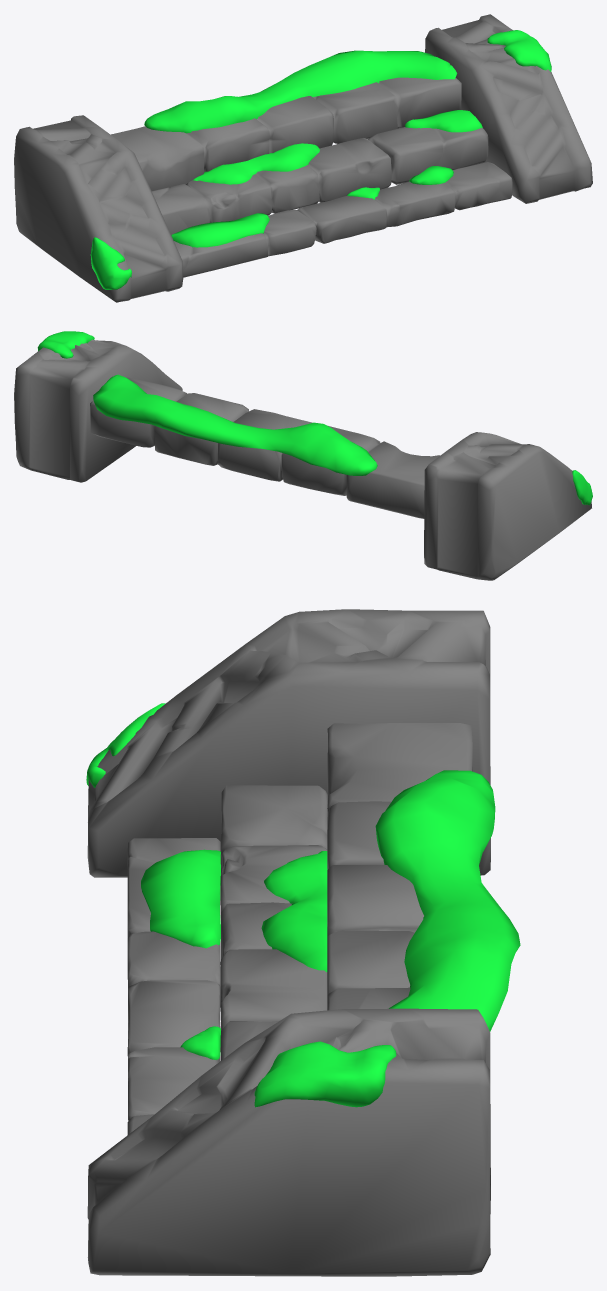
File: Stairs.fbx
3 views of the same model, one above another, from view 1: azimuth 30°, elevation 25°; view 2: azimuth 150°, elevation 25°; view 3: azimuth 270°, elevation 25° (orthographic). The views are drawn at different scales.
Parts seen in each view (by area): view 1: Stairs, moss; view 2: Stairs, moss; view 3: Stairs, moss.
Boxes of the visible parts, <box> form: Stairs: <box>14,14,592,302</box>; moss: <box>90,30,551,289</box>; Stairs: <box>14,339,591,580</box>; moss: <box>37,331,592,505</box>; Stairs: <box>87,609,490,1276</box>; moss: <box>86,703,520,1107</box>.
Bounding box in the file's own units: 711 × 149 × 273.
